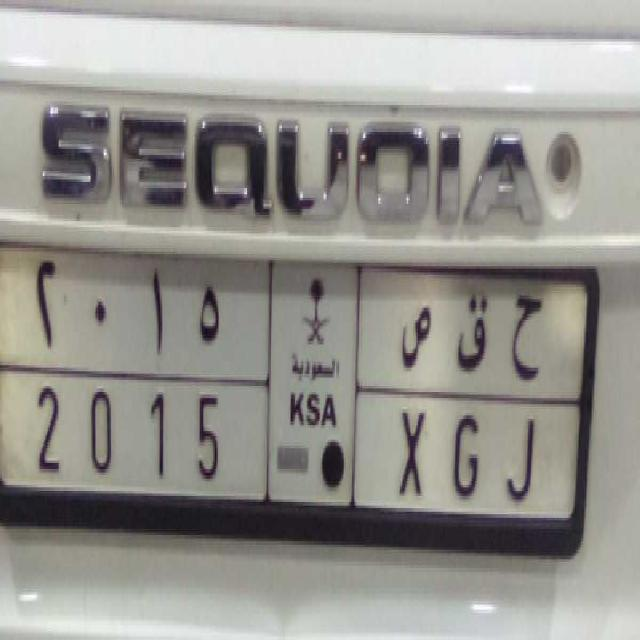license_plate: (29, 371, 551, 525)
